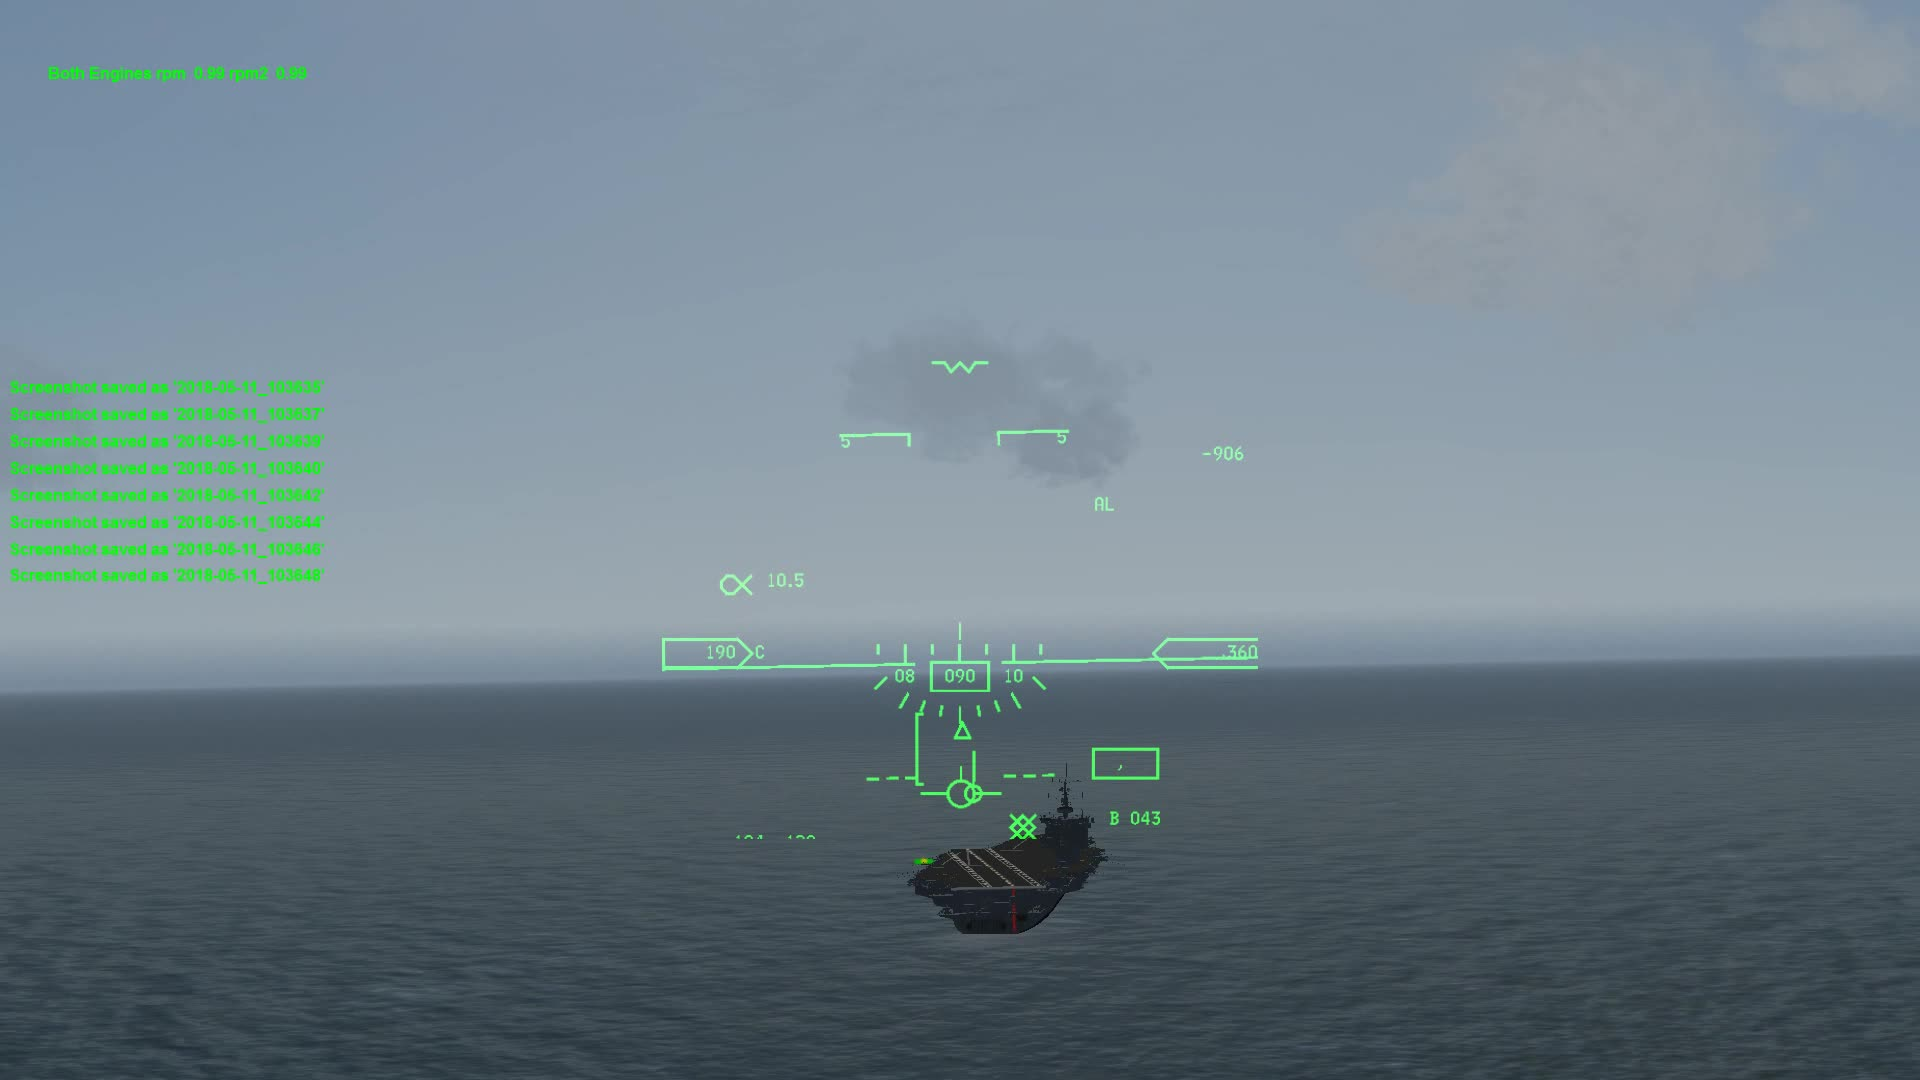speed vector: (913, 761, 1000, 814)
